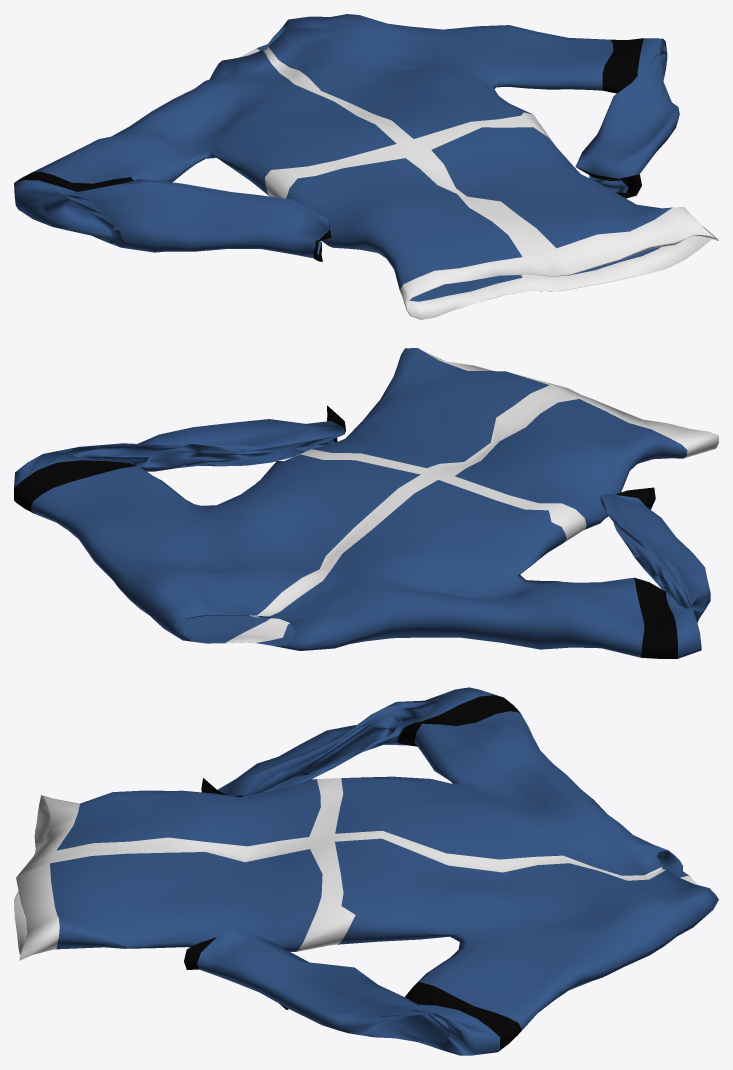
Rendered from Camisa larga.fbx.
3 views of the same model, one above another, from view 1: azimuth 30°, elevation 25°; view 2: azimuth 150°, elevation 25°; view 3: azimuth 270°, elevation 25° (orthographic). The views are drawn at different scales.
Visible parts, largest first — view 1: Camisa larga; view 2: Camisa larga; view 3: Camisa larga.
Part boxes in pixels (x1,y1,x2,y2): Camisa larga: (14, 14, 718, 319); Camisa larga: (14, 348, 718, 658); Camisa larga: (14, 687, 718, 1055).
Size of the model in its own units: 53.32 by 4.2 by 46.48.
